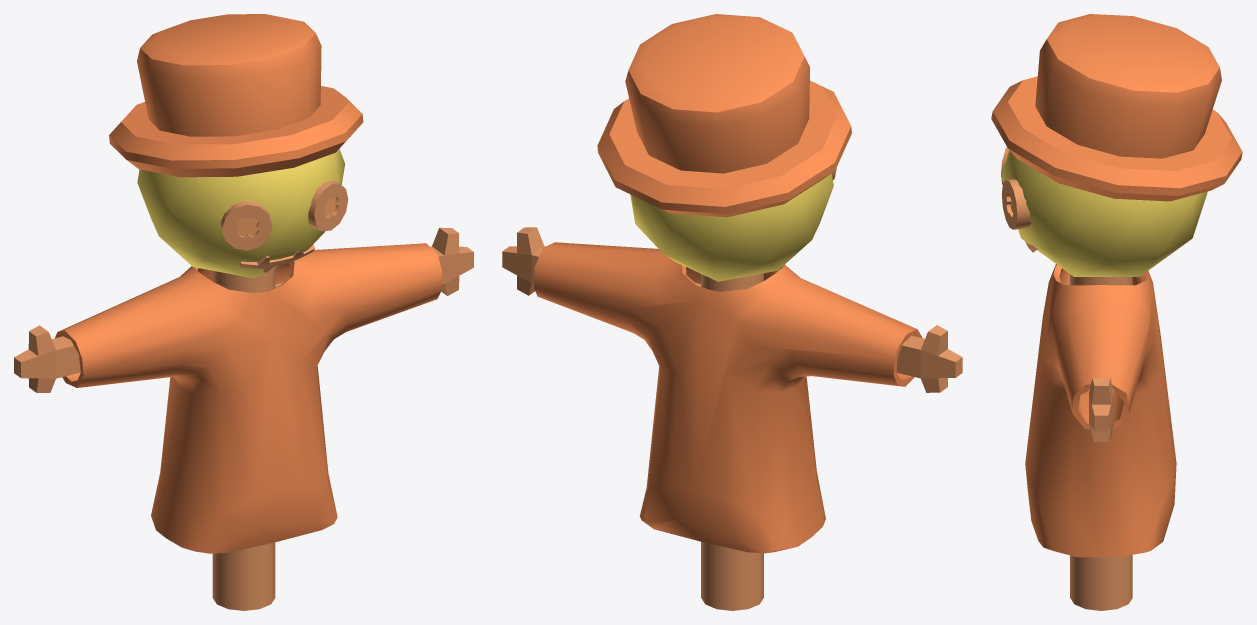
The model's file is Scarecrow.fbx.
3 renders of one model, left to right at view 1: azimuth 30°, elevation 25°; view 2: azimuth 150°, elevation 25°; view 3: azimuth 270°, elevation 25°, orthographic.
Parts seen in each view (by area): view 1: Scarecrow; view 2: Scarecrow; view 3: Scarecrow.
Part boxes in pixels (x1,y1,x2,y2): Scarecrow: (14,14,473,610); Scarecrow: (502,14,962,610); Scarecrow: (991,14,1242,610).
Bounding box in the file's own units: 171 × 203 × 82.53.
